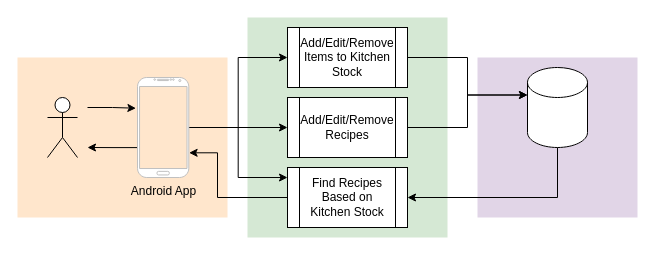
Some shapes in this 654 by 254 pixel diagram are drawn without their labels. The shapes that lost their labels are listed below. From the top down, each one's box as (x1, y1, x2, y2) in pixels, then its label:
(46, 96, 78, 158): User
(526, 66, 588, 148): Database
